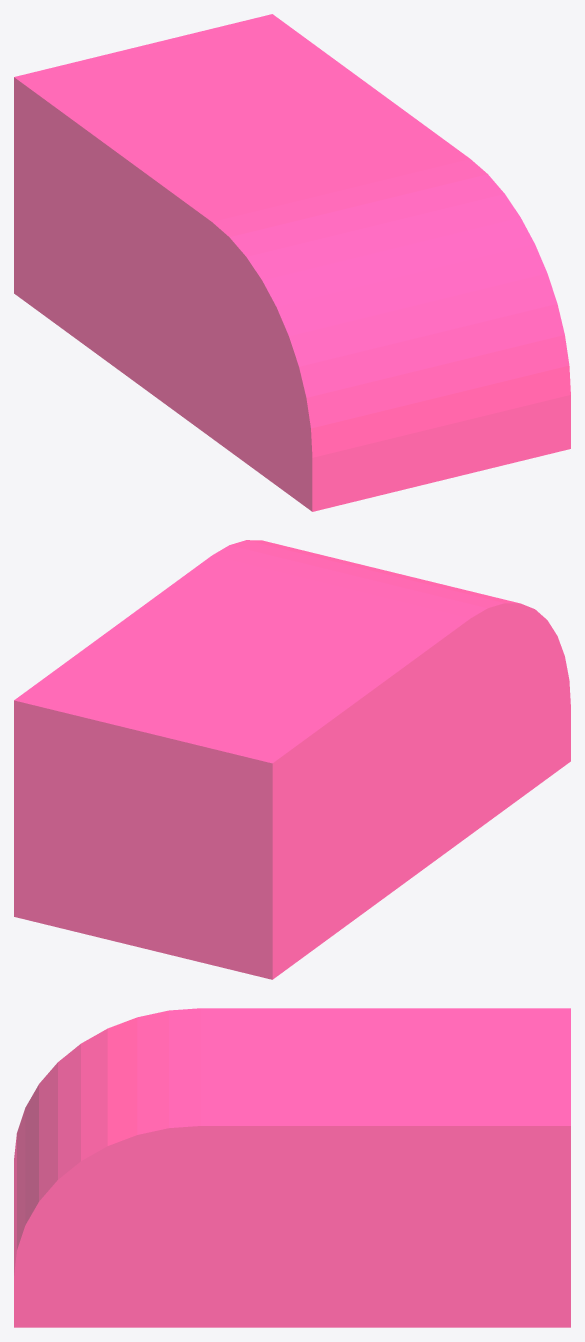
The picture shows the model from 3 angles, top to bottom: view 1: azimuth 30°, elevation 25°; view 2: azimuth 150°, elevation 25°; view 3: azimuth 270°, elevation 25°; orthographic projection. The views are drawn at different scales.
Visible parts, largest first — view 1: Cube; view 2: Cube; view 3: Cube.
Part boxes in pixels (bbox=[...]): Cube: bbox=[14, 14, 570, 511]; Cube: bbox=[14, 540, 570, 979]; Cube: bbox=[14, 1008, 570, 1327].
Size of the model in its own units: 2 by 1.6 by 4.
